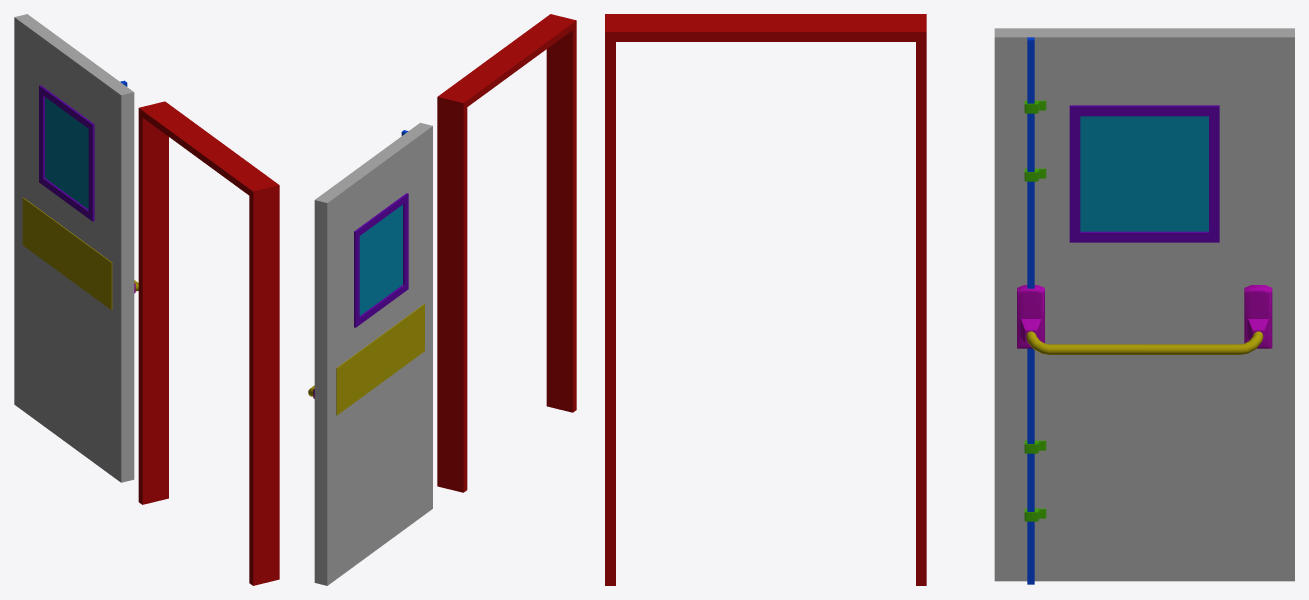
File: MetalDoor_high.fbx
3 renders of one model, left to right at view 1: azimuth 30°, elevation 25°; view 2: azimuth 150°, elevation 25°; view 3: azimuth 270°, elevation 25°, orthographic. The views are drawn at different scales.
Visible parts, largest first — view 1: Door_high, DoorFrame_high, HandleBack_high, Glass_high, GlassFrame_high; view 2: Door_high, DoorFrame_high, HandleBack_high, Glass_high, GlassFrame_high; view 3: Door_high, DoorFrame_high, Glass_high, GlassFrame_high, Handle_high, Bar_high, BarHandles_high.
Boxes of the visible parts, box(x1,y1,x2,y2) form: Door_high: box(14, 14, 134, 482); DoorFrame_high: box(138, 101, 279, 585); HandleBack_high: box(22, 197, 112, 310); Glass_high: box(45, 97, 88, 209); GlassFrame_high: box(39, 85, 94, 221); Door_high: box(314, 122, 432, 585); DoorFrame_high: box(437, 14, 576, 492); HandleBack_high: box(336, 304, 424, 415); Glass_high: box(359, 204, 402, 315); GlassFrame_high: box(354, 193, 408, 327); Door_high: box(994, 28, 1294, 581); DoorFrame_high: box(605, 14, 926, 585); Glass_high: box(1080, 116, 1208, 231); GlassFrame_high: box(1069, 105, 1219, 242); Handle_high: box(1017, 285, 1272, 354); Bar_high: box(1027, 37, 1034, 584); BarHandles_high: box(1024, 100, 1046, 521).
Bounding box in the file's own units: 0.3301 × 2.85 × 3.22.
